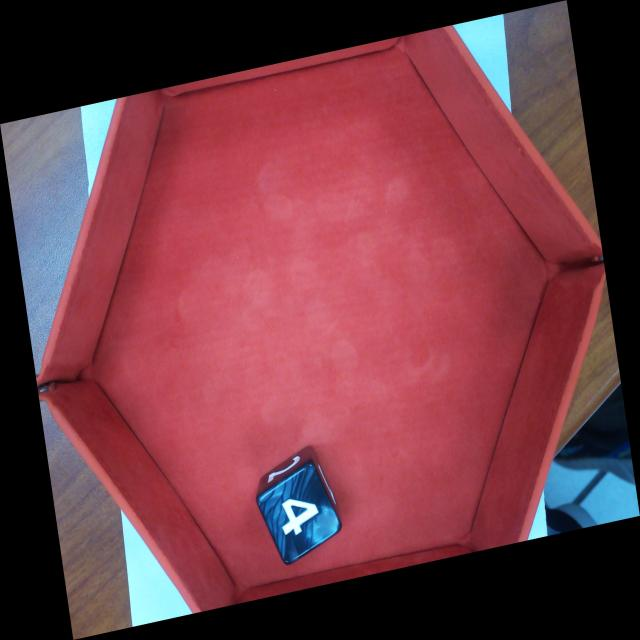dice: (264, 462, 343, 563)
